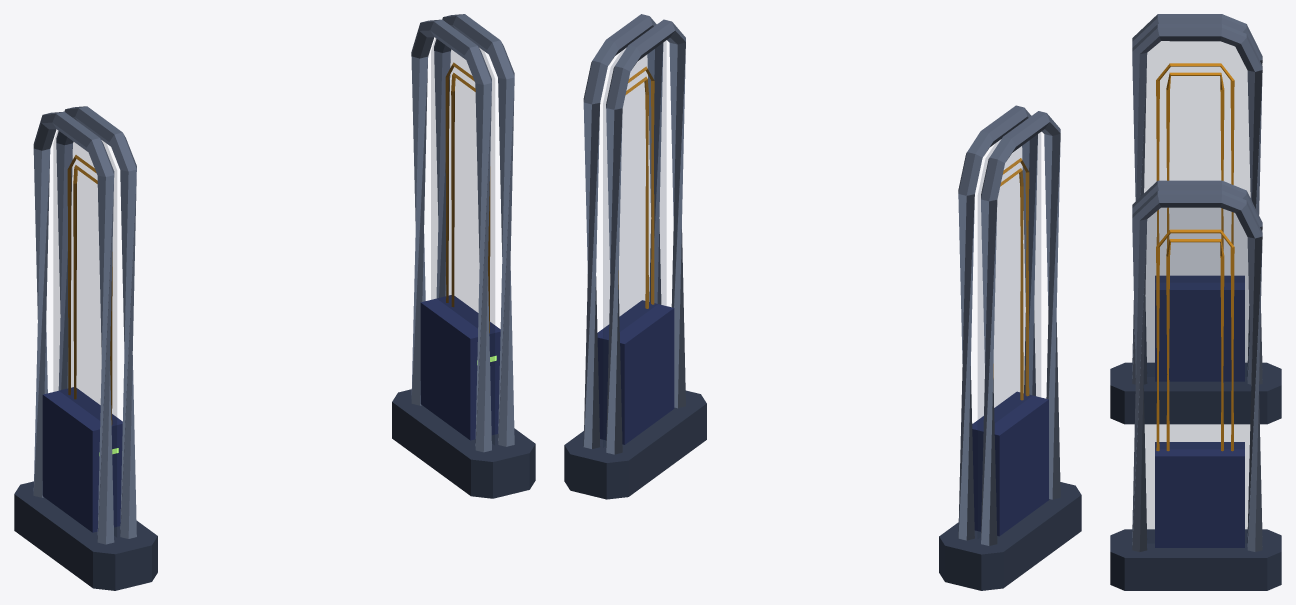
Rendered from mall_security_gates.glb.
3 renders of one model, left to right at view 1: azimuth 30°, elevation 25°; view 2: azimuth 150°, elevation 25°; view 3: azimuth 270°, elevation 25°, orthographic. The views are drawn at different scales.
Parts seen in each view (by area): view 1: reader_hoop, antenna_insert, electronics_pod, shoe, antenna; view 2: reader_hoop, antenna_insert, electronics_pod, shoe, antenna; view 3: antenna_insert, reader_hoop, electronics_pod, shoe, antenna.
Boxes of the visible parts, x1,y1,x2,y2 form: reader_hoop: (33,14,514,544); antenna_insert: (54,38,494,536); electronics_pod: (42,295,500,532); shoe: (14,389,535,590); antenna: (67,62,490,425); reader_hoop: (583,14,1060,545); antenna_insert: (603,41,1040,538); electronics_pod: (597,300,1048,536); shoe: (564,390,1081,590); antenna: (618,66,1029,400); antenna_insert: (1144,41,1250,542); reader_hoop: (1132,14,1262,551); electronics_pod: (1155,275,1244,547); shoe: (1110,362,1281,590); antenna: (1156,63,1234,451).
Bounding box in the file's own units: 1.64 × 1.53 × 0.61.
